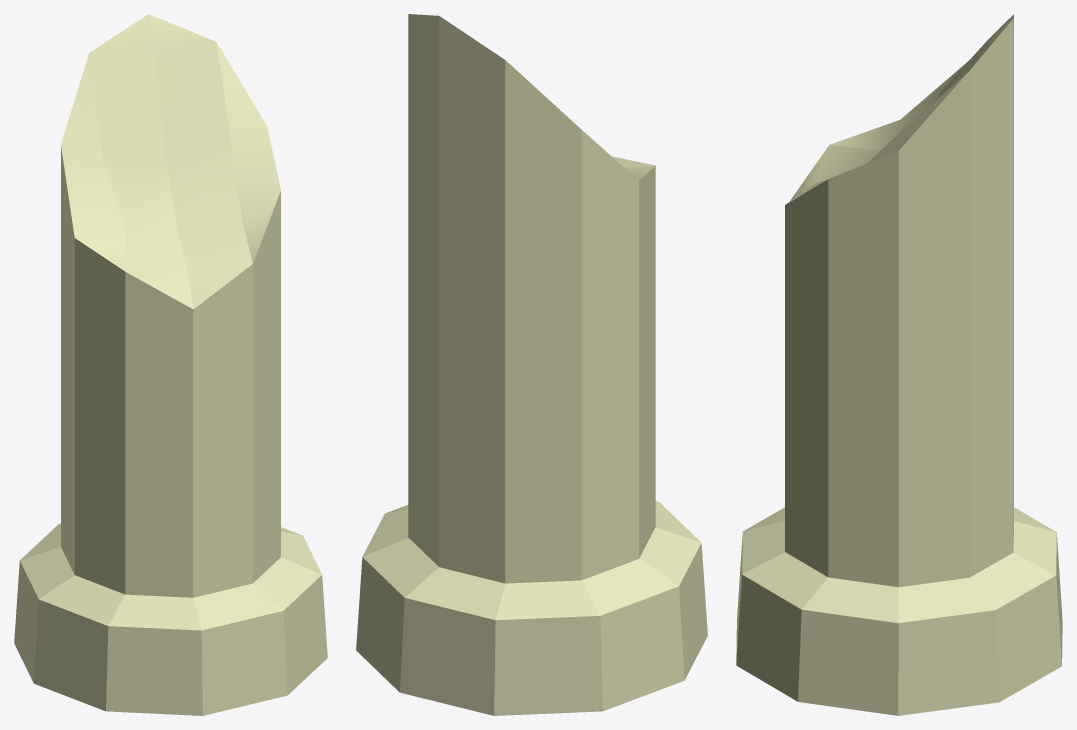
Rendered from BrokenPillar1.fbx.
3 renders of one model, left to right at view 1: azimuth 30°, elevation 25°; view 2: azimuth 150°, elevation 25°; view 3: azimuth 270°, elevation 25°, orthographic. The views are drawn at different scales.
Visible parts, largest first — view 1: BrokenPillar1; view 2: BrokenPillar1; view 3: BrokenPillar1.
Part boxes in pixels (x1=…): BrokenPillar1: x1=14, y1=14, x2=327, y2=715; BrokenPillar1: x1=356, y1=14, x2=707, y2=715; BrokenPillar1: x1=736, y1=14, x2=1062, y2=715.
Size of the model in its own units: 0.9169 by 1.89 by 0.8737.
